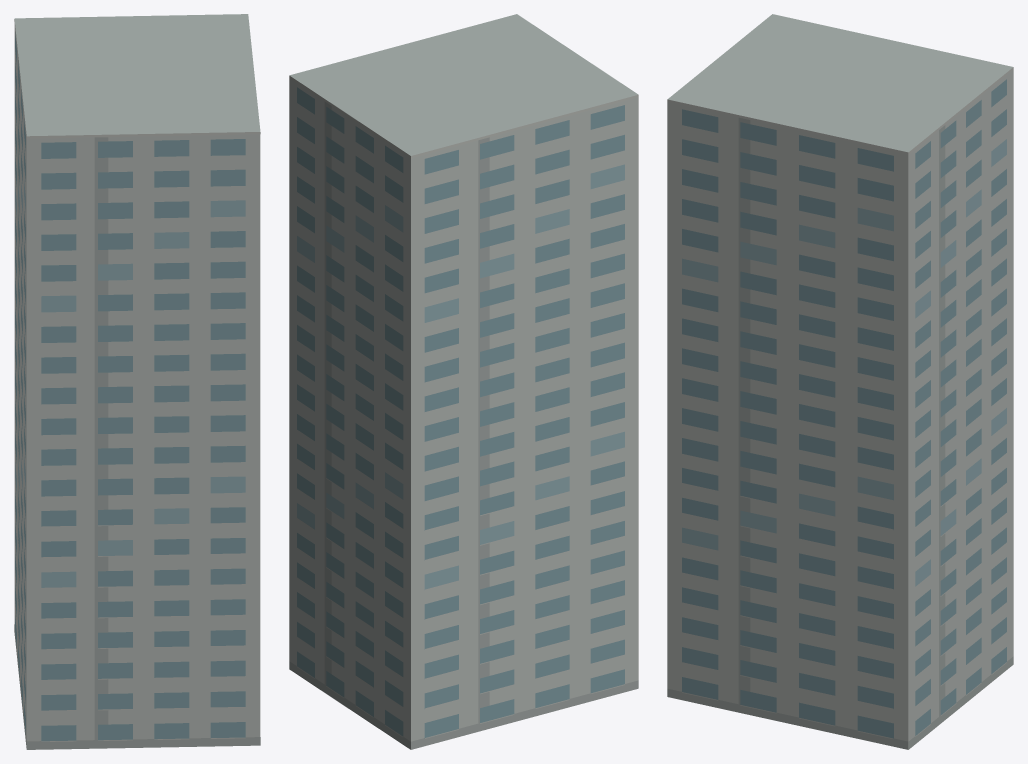
Rendered from residential-4e6e93c6-6e2f-4282-92a2-8a9cd5e2bd8b.glb.
3 renders of one model, left to right at view 1: azimuth 30°, elevation 25°; view 2: azimuth 150°, elevation 25°; view 3: azimuth 270°, elevation 25°, orthographic. The views are drawn at different scales.
Parts seen in each view (by area): view 1: residential-4e6e93c6-6e2f-4282-92a2-8a9cd5e2bd8b.tmp; view 2: residential-4e6e93c6-6e2f-4282-92a2-8a9cd5e2bd8b.tmp; view 3: residential-4e6e93c6-6e2f-4282-92a2-8a9cd5e2bd8b.tmp.
Boxes of the visible parts, x1,y1,x2,y2 form: residential-4e6e93c6-6e2f-4282-92a2-8a9cd5e2bd8b.tmp: [14, 14, 260, 749]; residential-4e6e93c6-6e2f-4282-92a2-8a9cd5e2bd8b.tmp: [289, 14, 638, 749]; residential-4e6e93c6-6e2f-4282-92a2-8a9cd5e2bd8b.tmp: [667, 14, 1013, 749].
Size of the model in its own units: 29.32 by 59 by 30.99.
